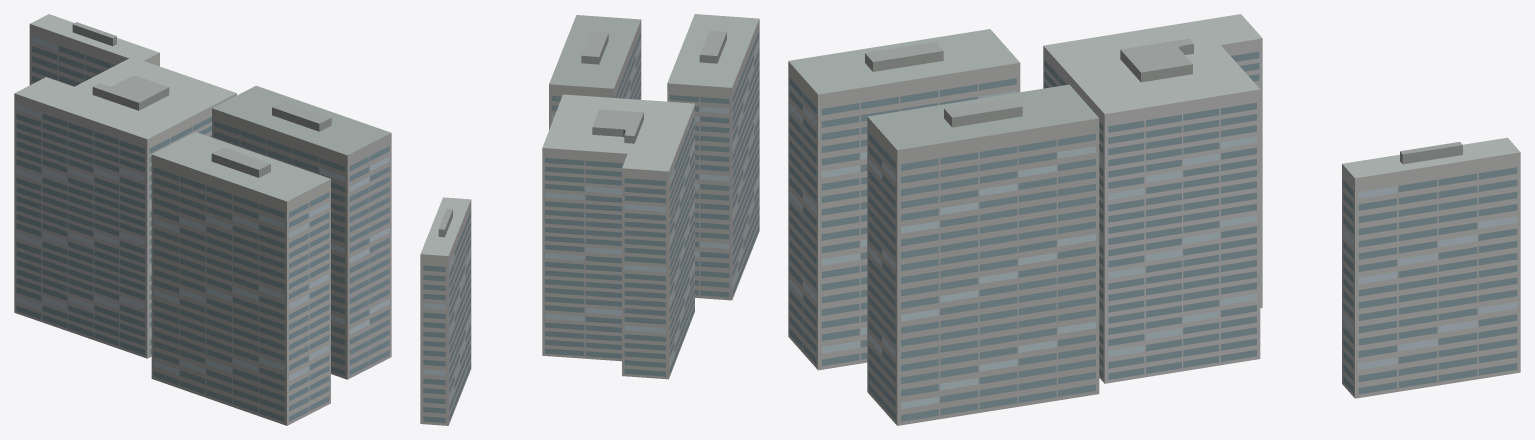
The model's file is apt-a13770611.glb.
The picture shows the model from 3 angles, left to right: view 1: azimuth 30°, elevation 25°; view 2: azimuth 150°, elevation 25°; view 3: azimuth 270°, elevation 25°; orthographic projection. The views are drawn at different scales.
Parts seen in each view (by area): view 1: apt-a13770611; view 2: apt-a13770611; view 3: apt-a13770611.
Boxes of the visible parts, x1,y1,x2,y2 form: apt-a13770611: (14,14,391,425); apt-a13770611: (420,14,759,425); apt-a13770611: (788,14,1520,425).
Size of the model in its own units: 74.3 by 69.5 by 162.
